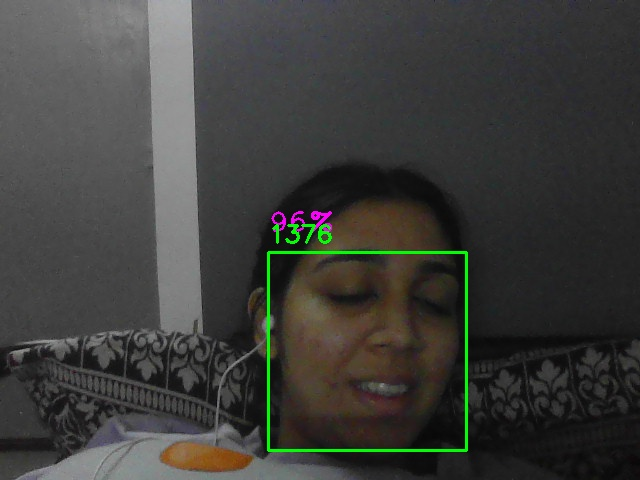real: (268, 252, 467, 451)
